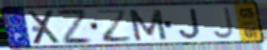J: (210, 6, 236, 40), (178, 7, 203, 40)
M: (127, 8, 170, 42)
X: (26, 9, 64, 46)
Z: (55, 8, 96, 46), (94, 8, 134, 44)
